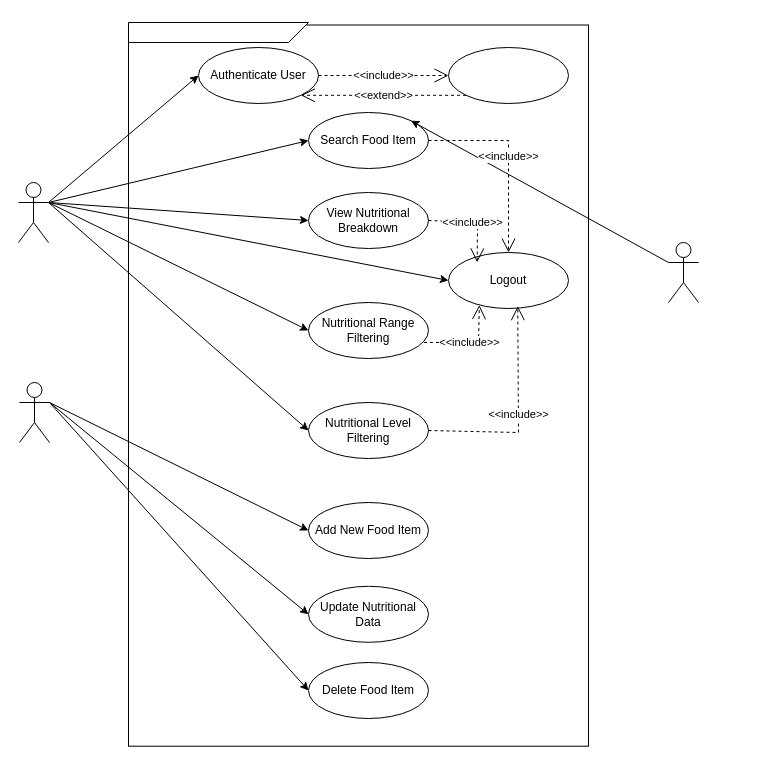
This 761x764 diagram has some shape labels left out. Each missing label, with the centre of its shape:
Admin: point (34, 412)
Display User Profile: point (508, 75)
External Database/API: point (683, 272)
Nutrient Analyzer System: point (218, 32)
User: point (33, 212)
